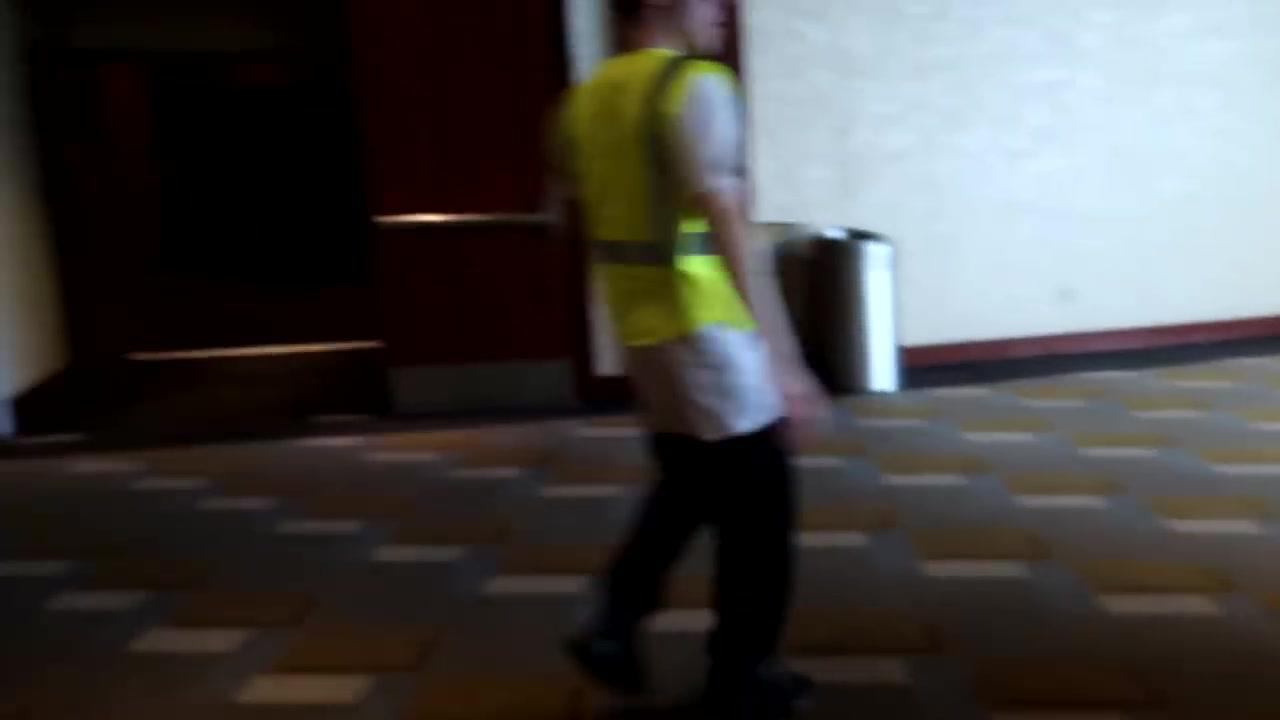Hi-Vis Jacket: (557, 62, 761, 361)
